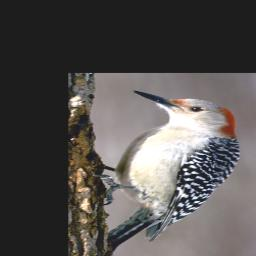Woodpecker: (94, 90, 241, 243)
